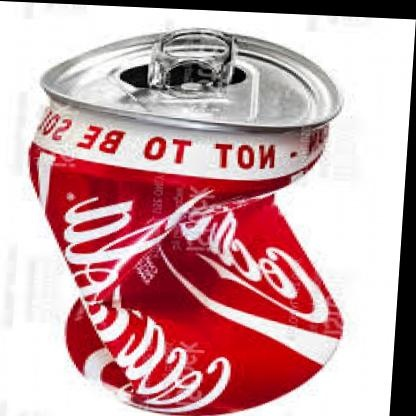trash: (30, 29, 341, 414)
